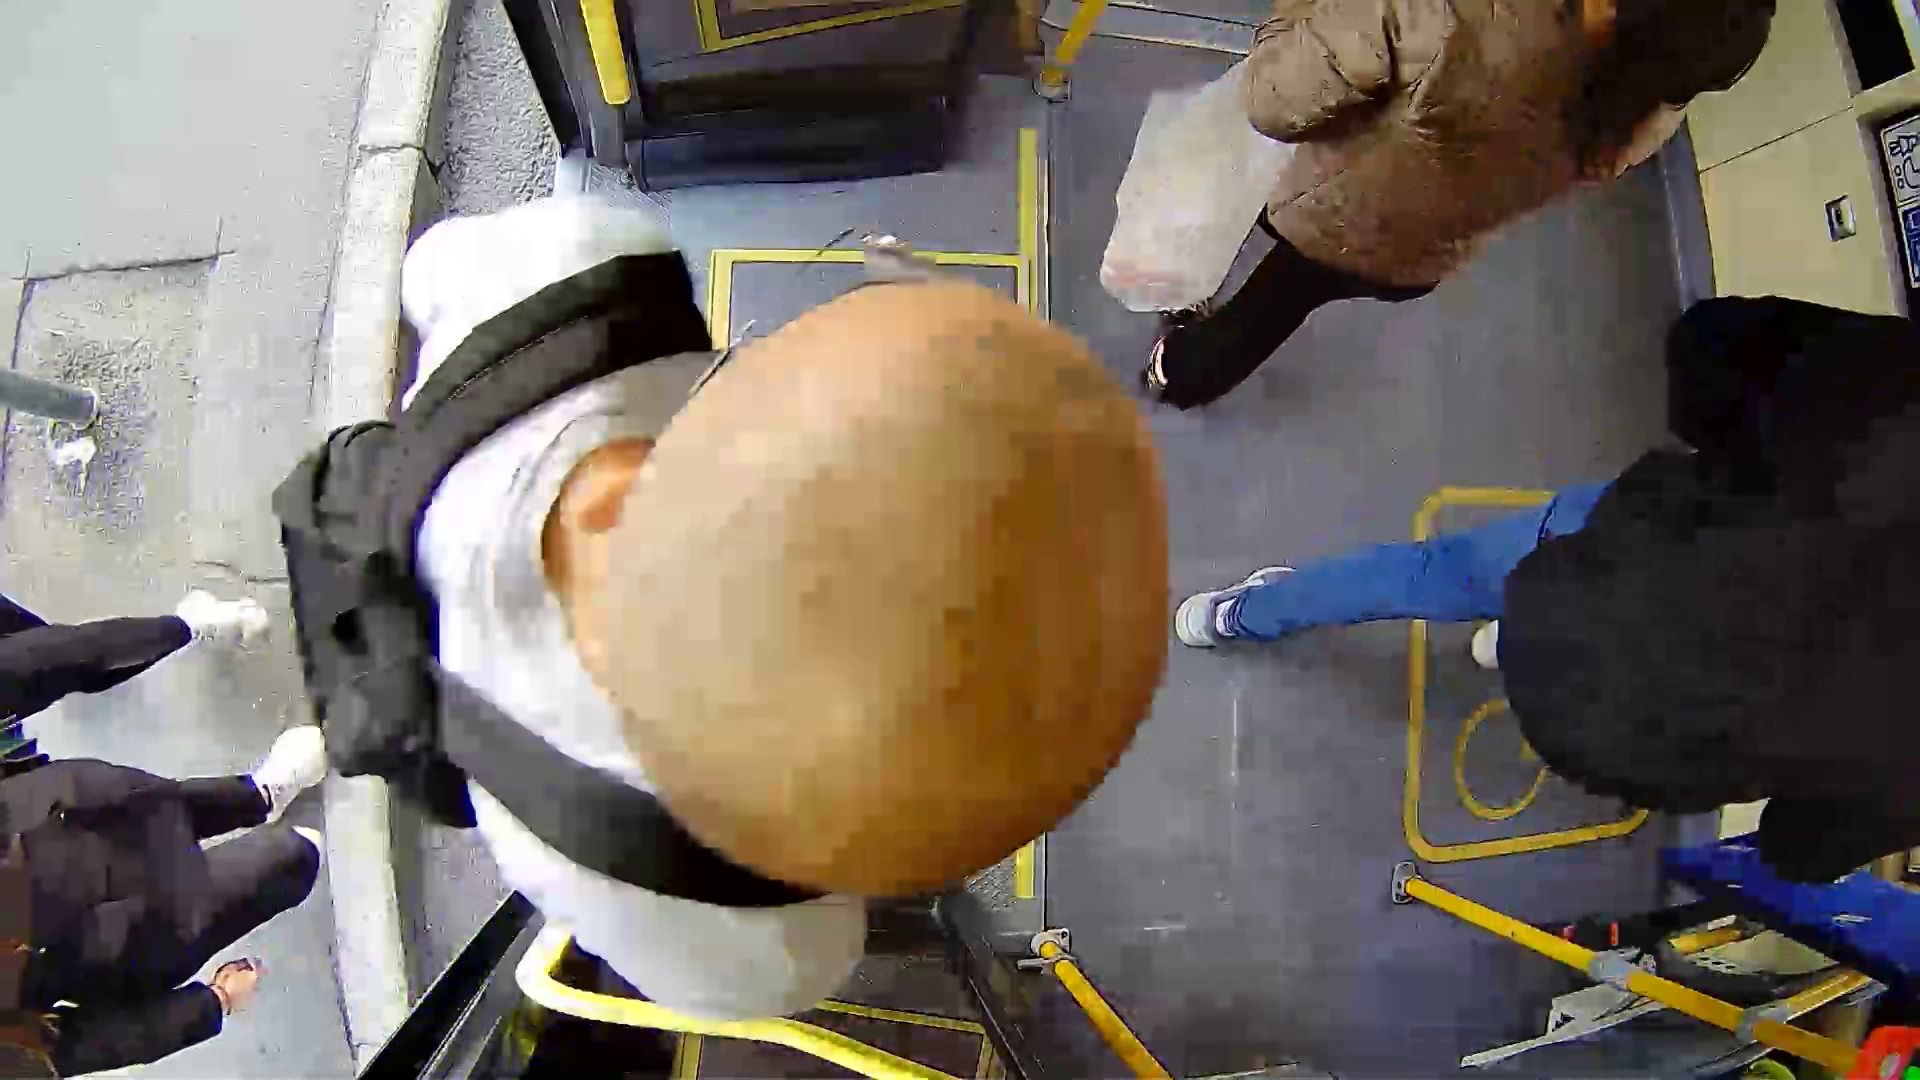person: (246, 206, 1252, 997)
